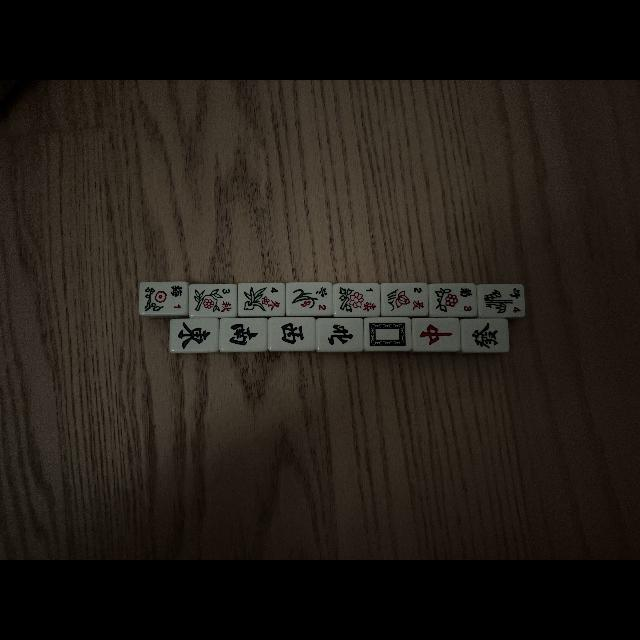dg: (462, 320, 508, 352)
dr: (413, 318, 459, 350)
dw: (366, 318, 410, 349)
f1: (170, 284, 188, 314)
f2: (314, 284, 332, 314)
f3: (456, 284, 474, 314)
f4: (506, 285, 524, 317)
s1: (362, 284, 380, 314)
s2: (409, 284, 426, 316)
s3: (218, 284, 236, 316)
s4: (268, 283, 284, 315)
we: (171, 318, 217, 352)
wn: (317, 318, 363, 352)
ws: (220, 320, 266, 350)
ww: (270, 318, 314, 350)
